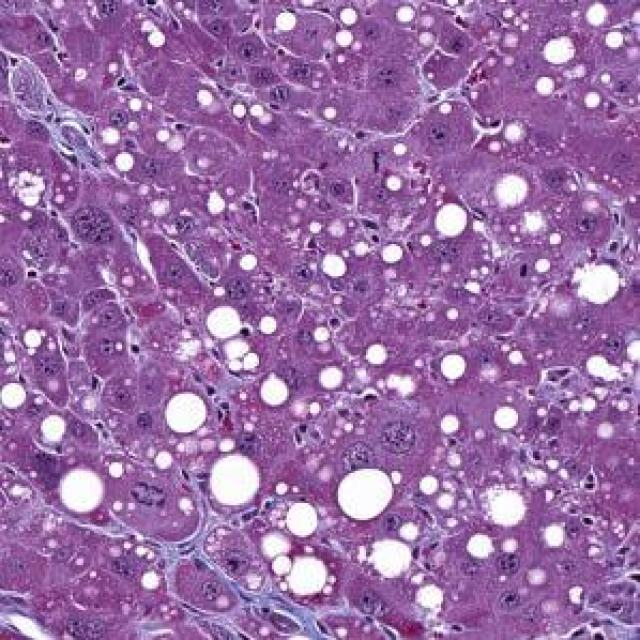fibrosis: (19, 69, 103, 169)
